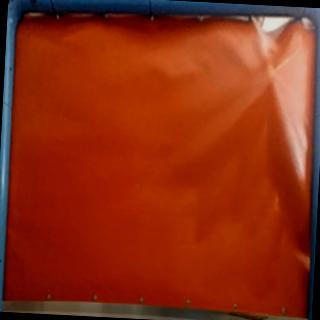Hit-hRxx: (263, 64, 282, 86)
